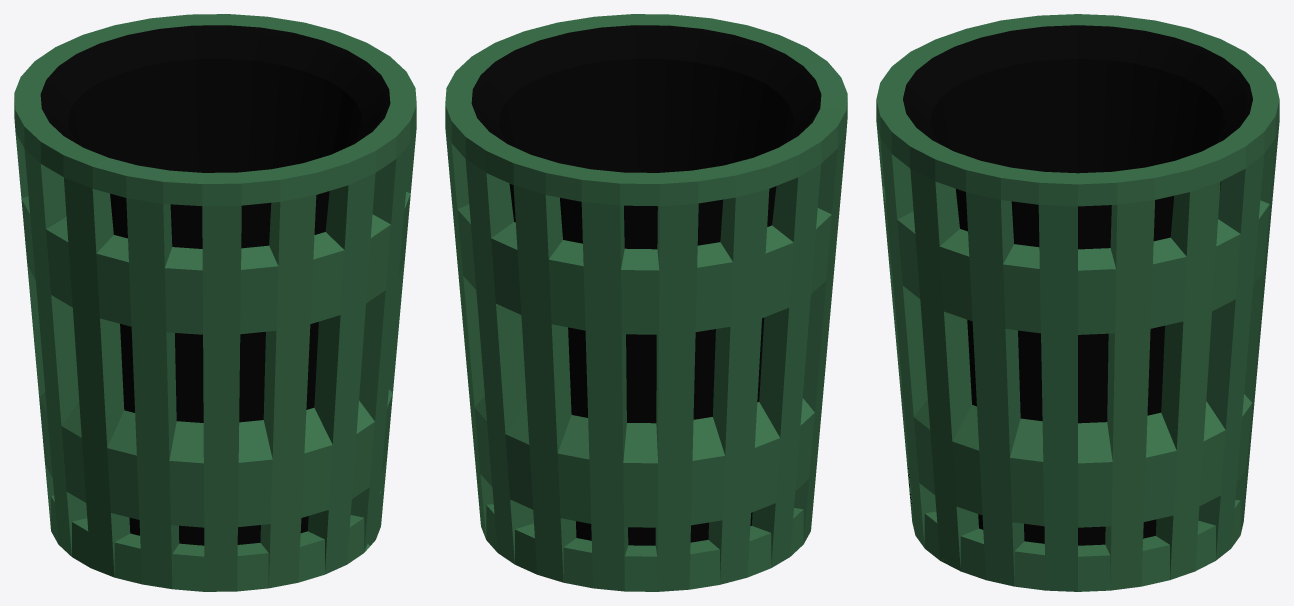
File: Trash Bin.fbx
3 views of the same model, side by side, from view 1: azimuth 30°, elevation 25°; view 2: azimuth 150°, elevation 25°; view 3: azimuth 270°, elevation 25° (orthographic).
Visible parts, largest first — view 1: Cylinder; view 2: Cylinder; view 3: Cylinder.
Boxes of the visible parts, left/top/right/bottom form: Cylinder: left=14, top=14, right=416, bottom=591; Cylinder: left=445, top=14, right=847, bottom=591; Cylinder: left=876, top=14, right=1279, bottom=591.
Bounding box in the file's own units: 237 × 275 × 237.
